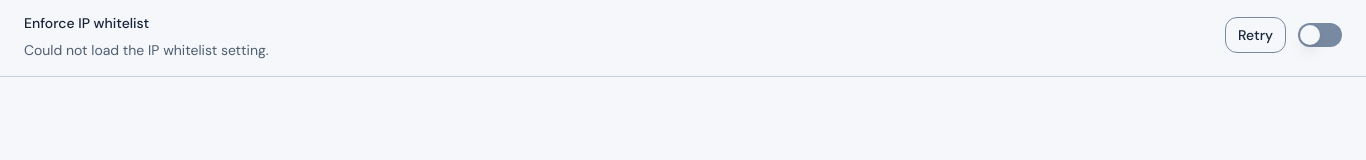
disables the switch after a failed load and supports retry
This screenshot has width=1366, height=160.
Expected: the switch is disabled, x1=1298 y1=23 x2=1342 y2=47
Click the button "Retry" at (1256, 35), box x1=1225 y1=17 x2=1286 y2=53
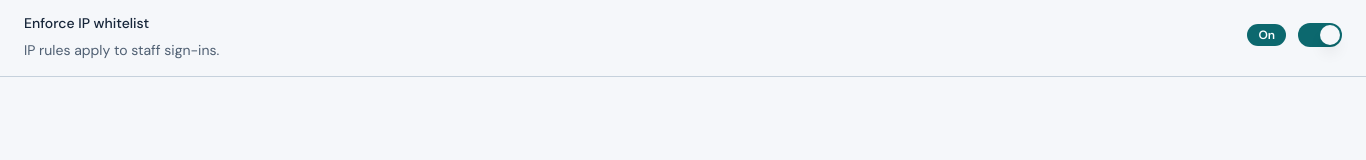
Now the switch is enabled, box x1=1298 y1=23 x2=1342 y2=47
